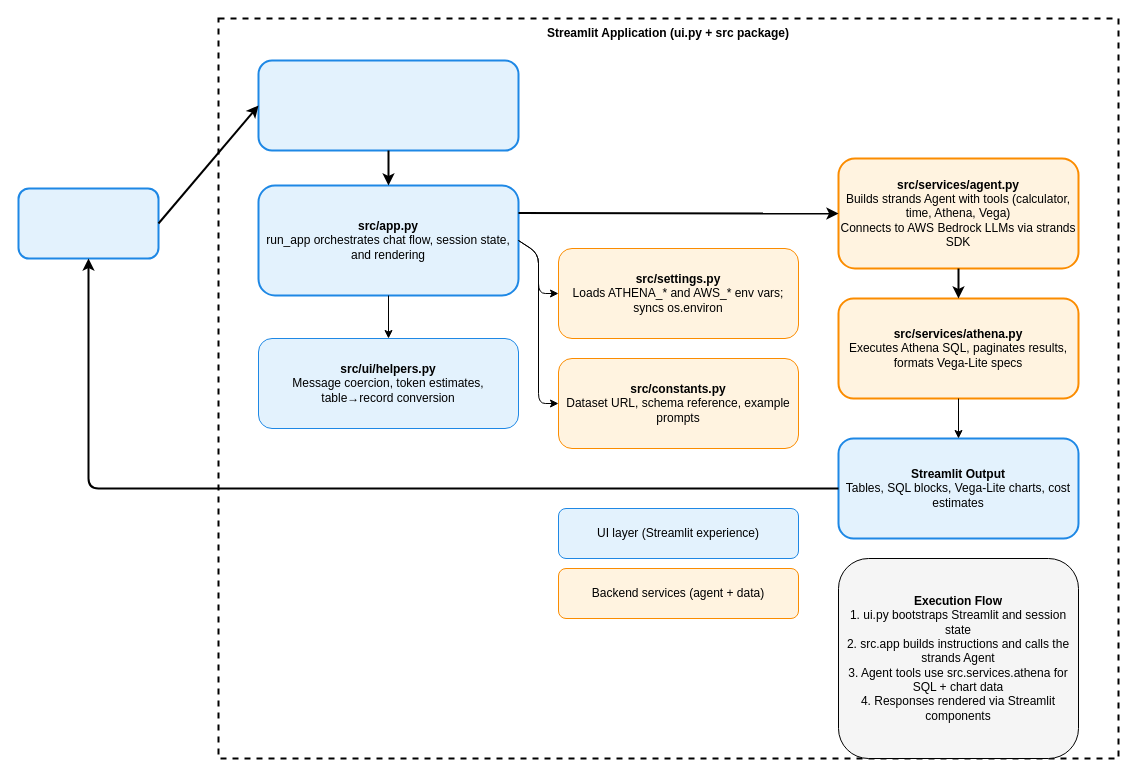
Some shapes in this 1136 by 776 pixel diagram are drawn without their labels. The shapes that lost their labels are listed below. From the top down, each one's centre as x and y in pixels, then its label:
the point at 388,105: ui.py Streamlit entrypoint; imports and runs src.app.run_app()
the point at 88,223: User Input
